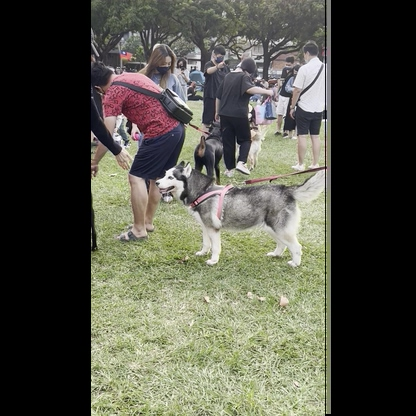husky: (150, 156, 321, 271)
